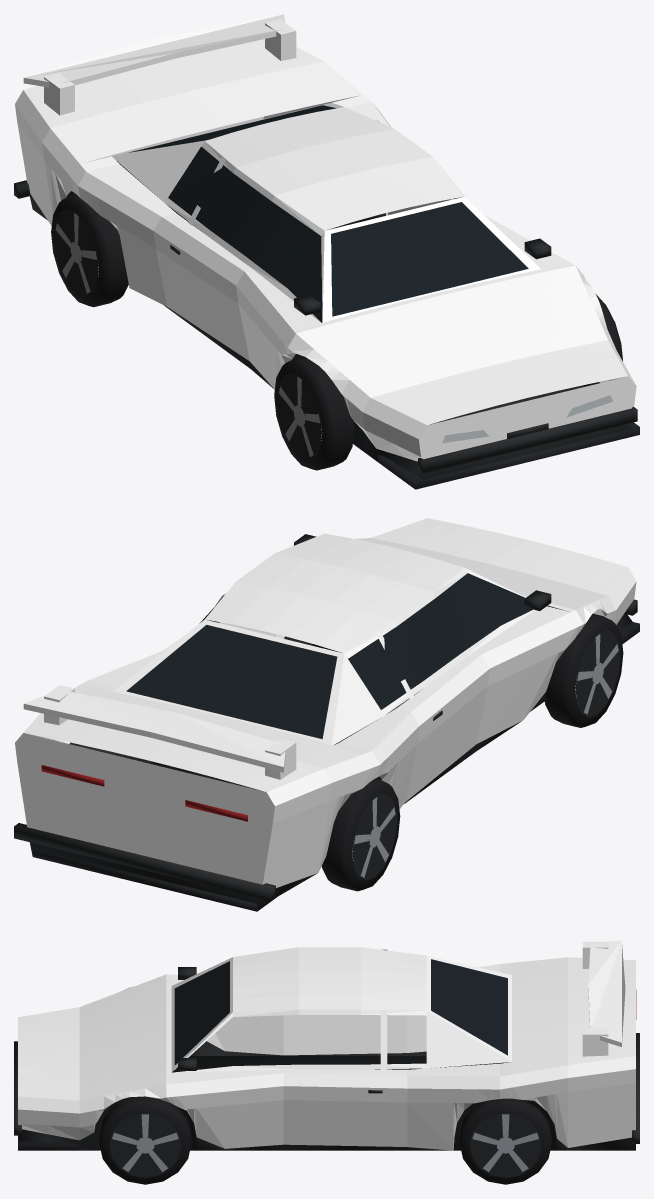
File: vantra_silencio.glb
The picture shows the model from 3 angles, top to bottom: view 1: azimuth 30°, elevation 25°; view 2: azimuth 150°, elevation 25°; view 3: azimuth 270°, elevation 25°; orthographic projection. The views are drawn at different scales.
Visible parts, largest first — view 1: Body_Paint, Body_Details, Mount_FrontLeft_Wheel_Details, Mount_RearLeft_Wheel_Details; view 2: Body_Paint, Body_Details, Mount_RearLeft_Wheel_Details, Mount_FrontLeft_Wheel_Details; view 3: Body_Paint, Body_Details, Mount_FrontRight_Wheel_Details, Mount_RearRight_Wheel_Details.
Boxes of the visible parts, <box> form: Body_Paint: <box>15,14,636,461</box>; Body_Details: <box>14,105,639,489</box>; Mount_FrontLeft_Wheel_Details: <box>274,356,354,470</box>; Mount_RearLeft_Wheel_Details: <box>51,194,128,307</box>; Body_Paint: <box>15,518,636,887</box>; Body_Details: <box>14,534,639,911</box>; Mount_RearLeft_Wheel_Details: <box>321,778,400,891</box>; Mount_FrontLeft_Wheel_Details: <box>544,613,623,727</box>; Body_Paint: <box>18,940,635,1150</box>; Body_Details: <box>14,959,639,1150</box>; Mount_FrontRight_Wheel_Details: <box>99,1096,191,1184</box>; Mount_RearRight_Wheel_Details: <box>459,1098,551,1184</box>.
Size of the model in its own units: 1.98 by 1.18 by 4.39.
Materials: 2 (1 with a texture image).
